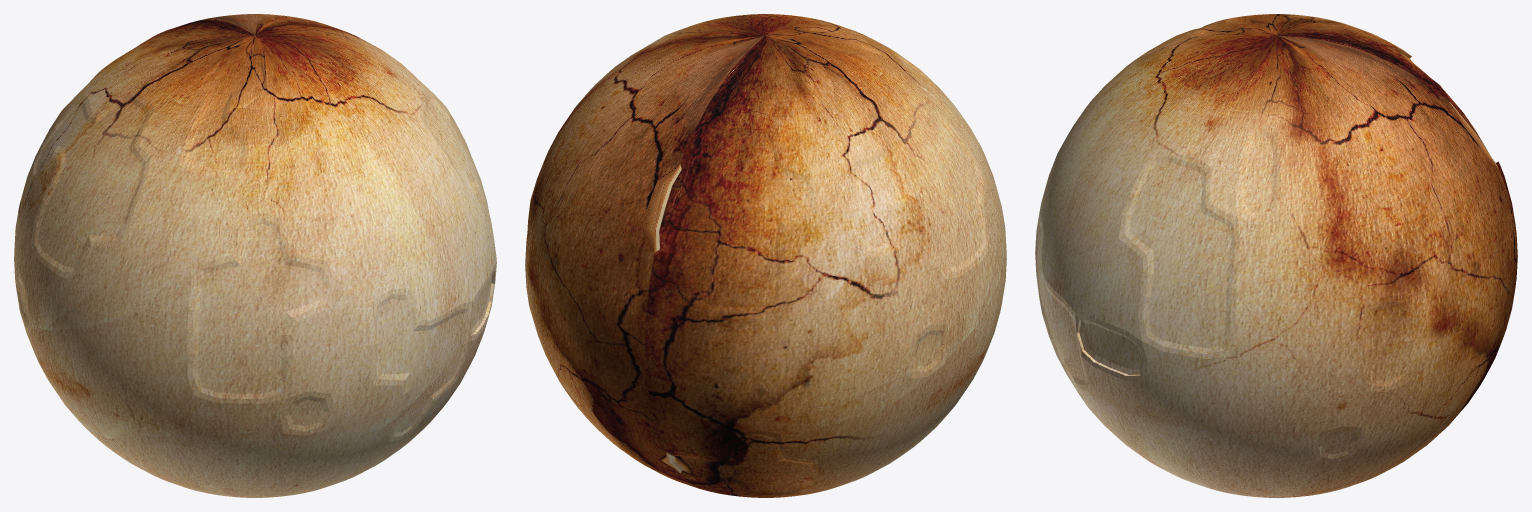
The model's file is planet3.FBX.
3 renders of one model, left to right at view 1: azimuth 30°, elevation 25°; view 2: azimuth 150°, elevation 25°; view 3: azimuth 270°, elevation 25°, orthographic.
Visible parts, largest first — view 1: Sphere001; view 2: Sphere001; view 3: Sphere001.
Boxes of the visible parts, x1=… form: Sphere001: x1=14, y1=14, x2=496, y2=497; Sphere001: x1=525, y1=14, x2=1006, y2=497; Sphere001: x1=1035, y1=14, x2=1517, y2=497.
Bounding box in the file's own units: 62.39 × 62.93 × 62.42.
